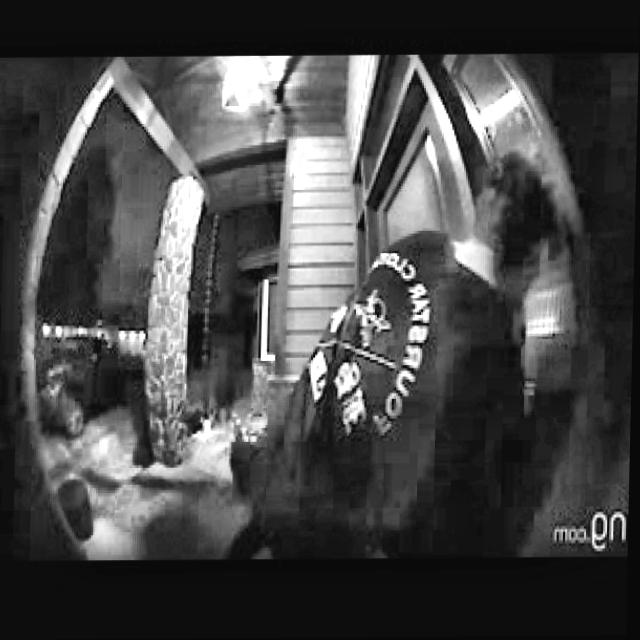burglary: (242, 141, 597, 559)
